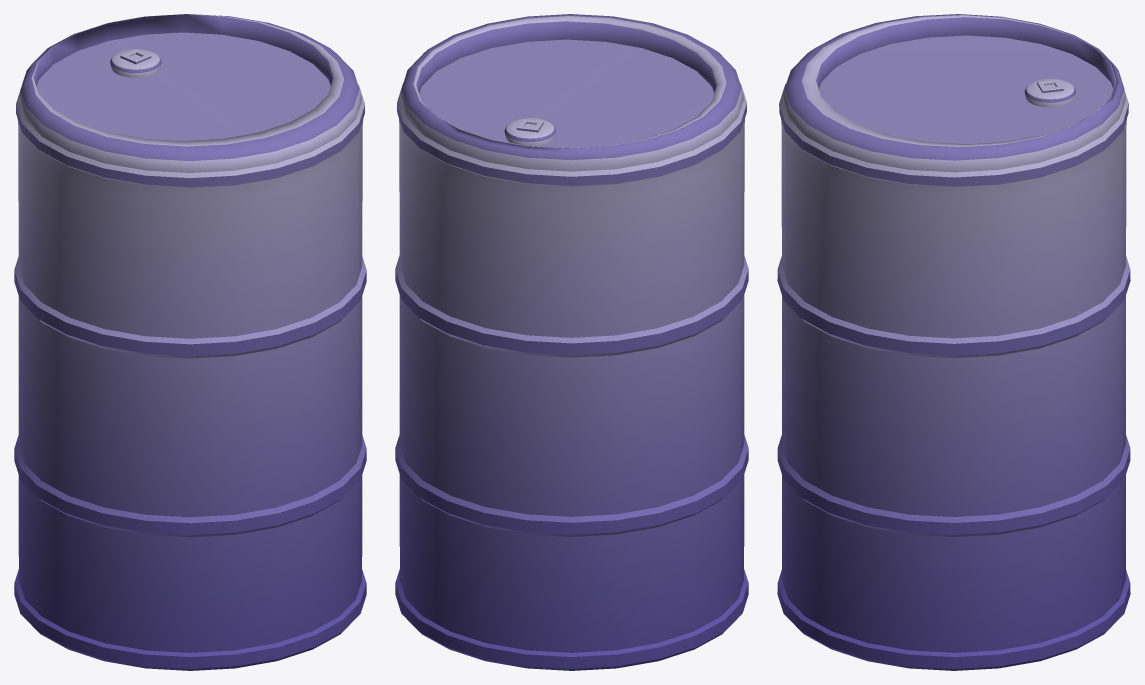
File: Barrel.fbx
3 renders of one model, left to right at view 1: azimuth 30°, elevation 25°; view 2: azimuth 150°, elevation 25°; view 3: azimuth 270°, elevation 25°, orthographic.
Parts seen in each view (by area): view 1: MDL_Barrel.005; view 2: MDL_Barrel.005; view 3: MDL_Barrel.005.
Boxes of the visible parts, x1,y1,x2,y2 form: MDL_Barrel.005: [14, 14, 366, 670]; MDL_Barrel.005: [395, 14, 748, 670]; MDL_Barrel.005: [777, 14, 1130, 670].
Bounding box in the file's own units: 209 × 338 × 209.
